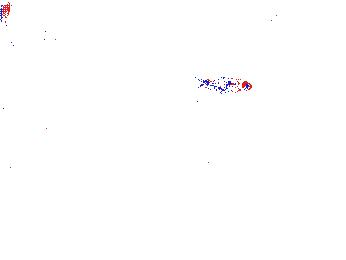X-ray fish: (179, 157, 222, 191)
red belly glassfish: (201, 76, 253, 95)
